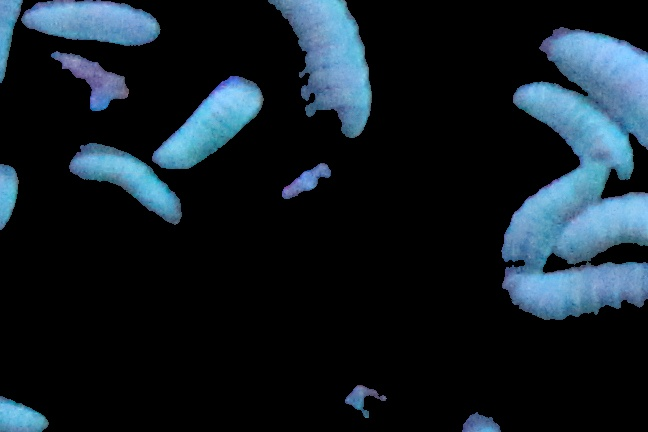larvae: (251, 1, 385, 134), (538, 16, 648, 137), (510, 84, 633, 181), (482, 166, 605, 260), (68, 152, 191, 226), (148, 86, 268, 157), (499, 263, 648, 320), (34, 3, 159, 49), (551, 193, 648, 252)
